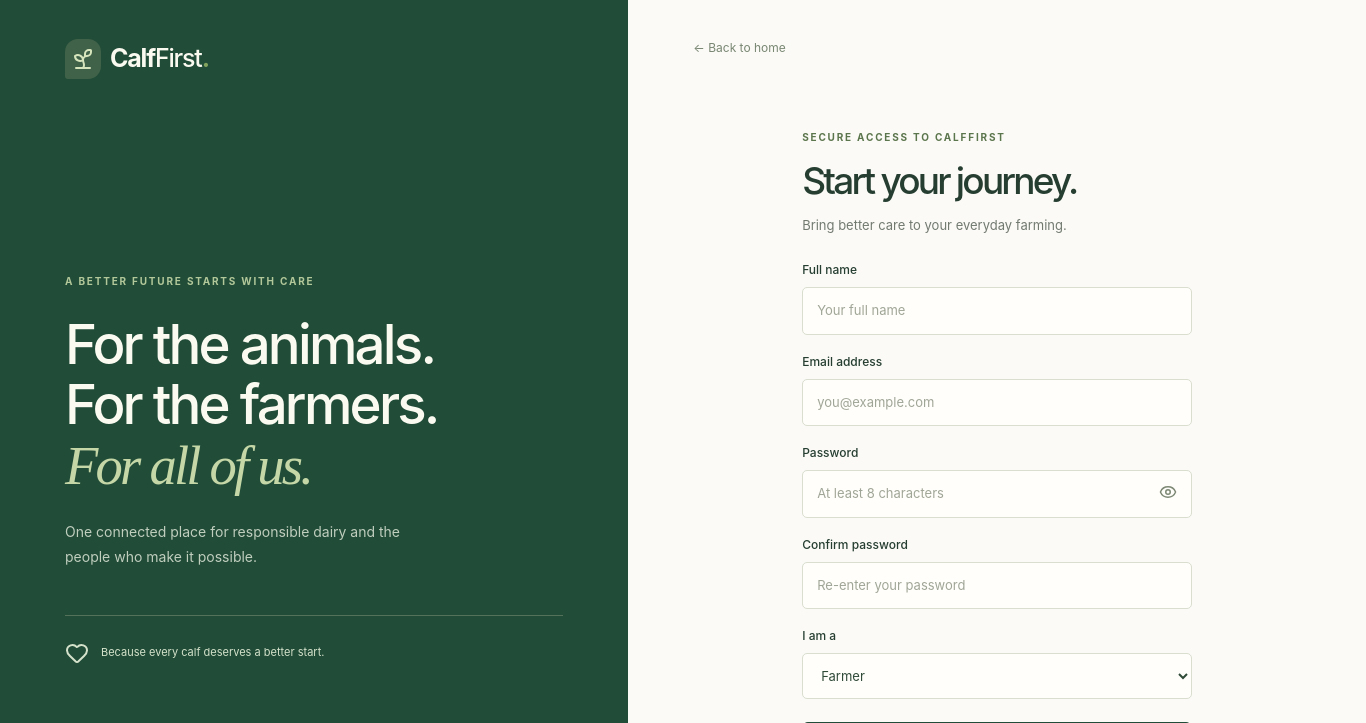
Test case: authentication forms › submits only an ordinary signup role and supports confirmation/duplicate obfuscation
This screenshot has width=1366, height=723.
Type "  Farm Owner  " into the field labelled "Full name" at (997, 311), box [802, 287, 1192, 335]
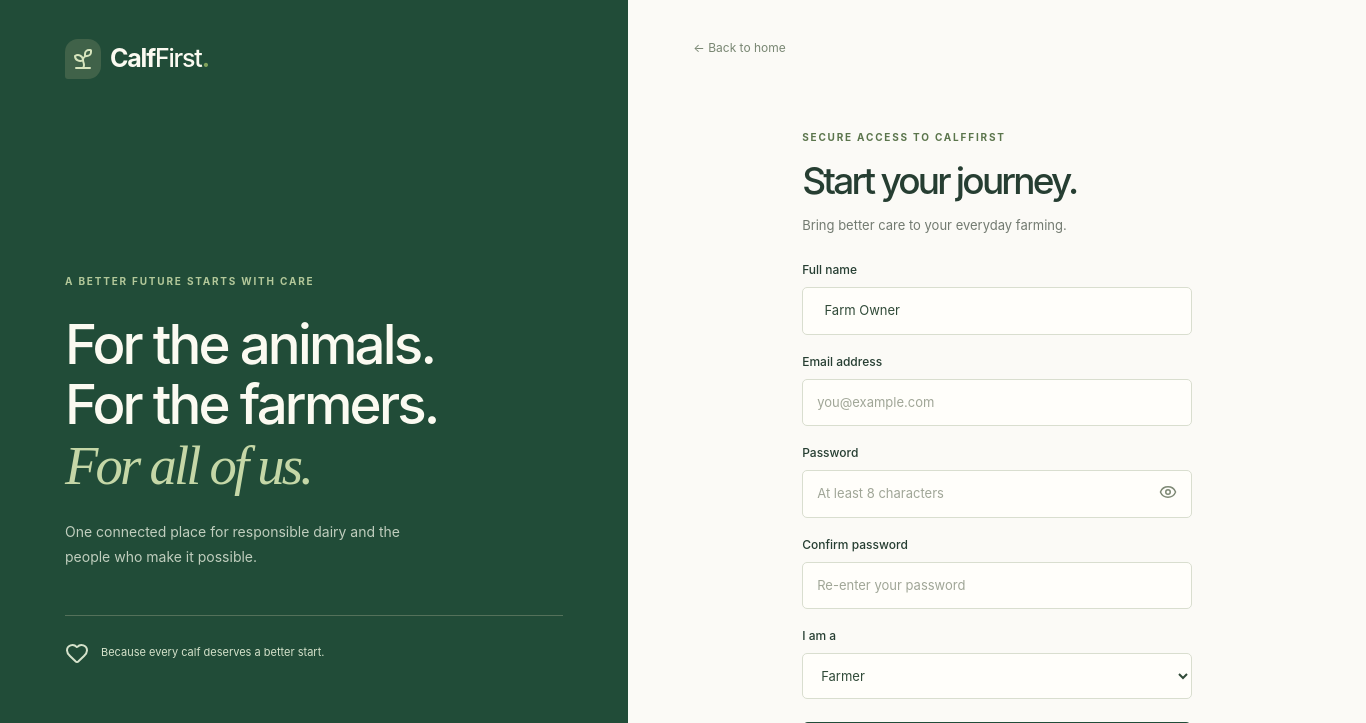
Type "owner@example.test" into the field labelled "Email address" at (997, 402), box [802, 379, 1192, 426]
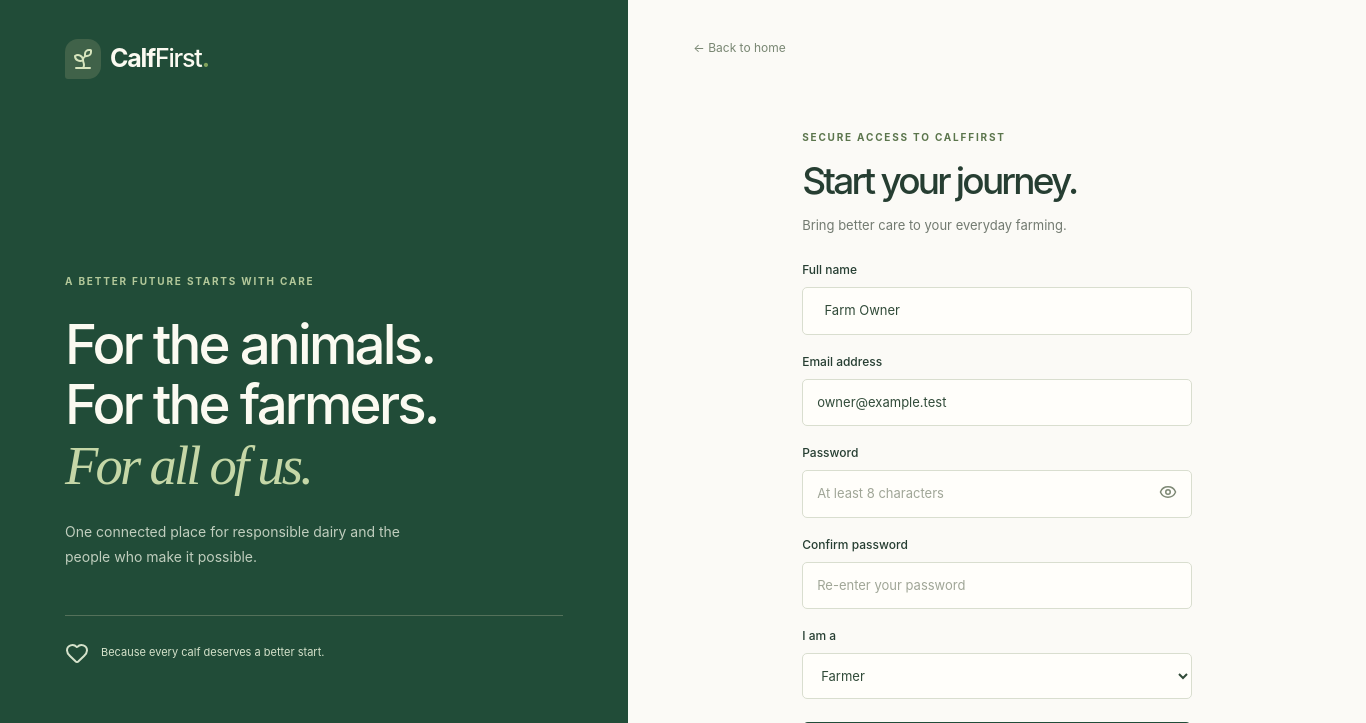
Type "safe-password" into the password field labelled "Password" at (997, 494), box [802, 470, 1192, 518]
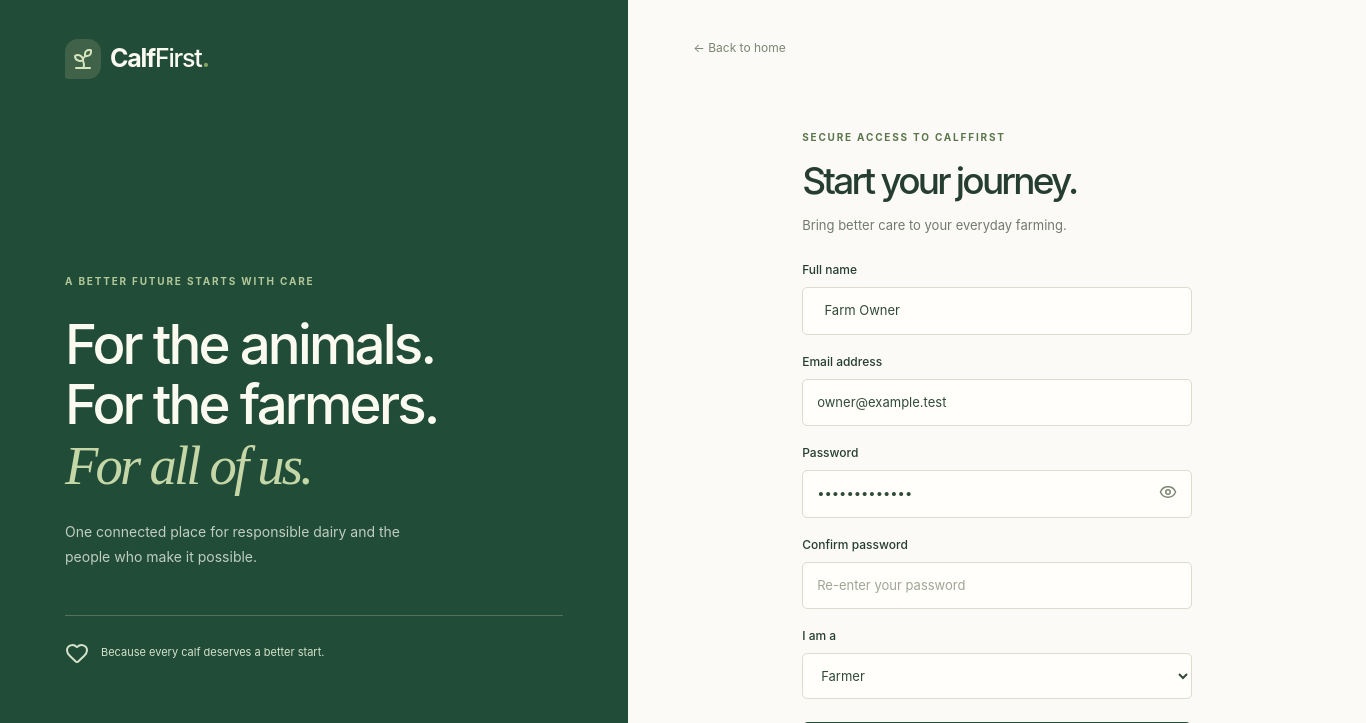
Type "safe-password" into the password field labelled "Confirm password" at (997, 585), box [802, 562, 1192, 609]
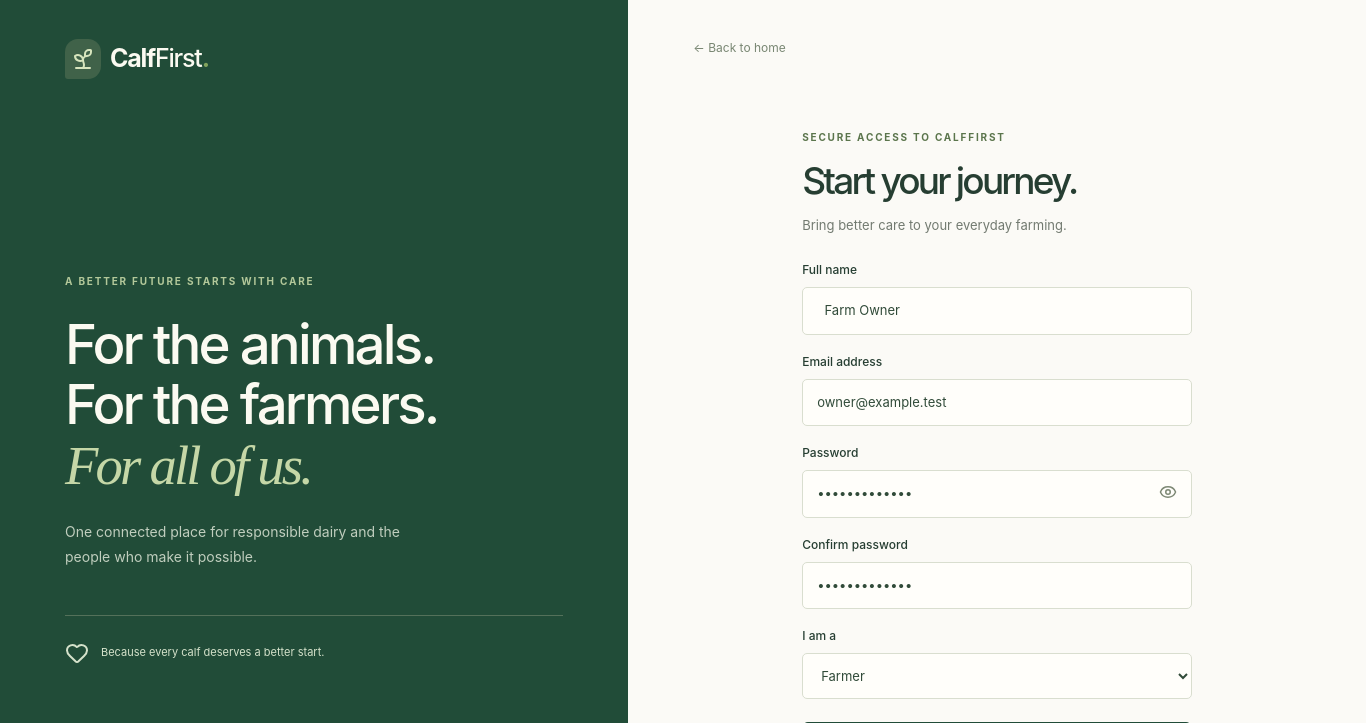
Select "Veterinarian" in the dropdown labelled "I am a" at (997, 676), box [802, 653, 1192, 699]
(page scrolled)
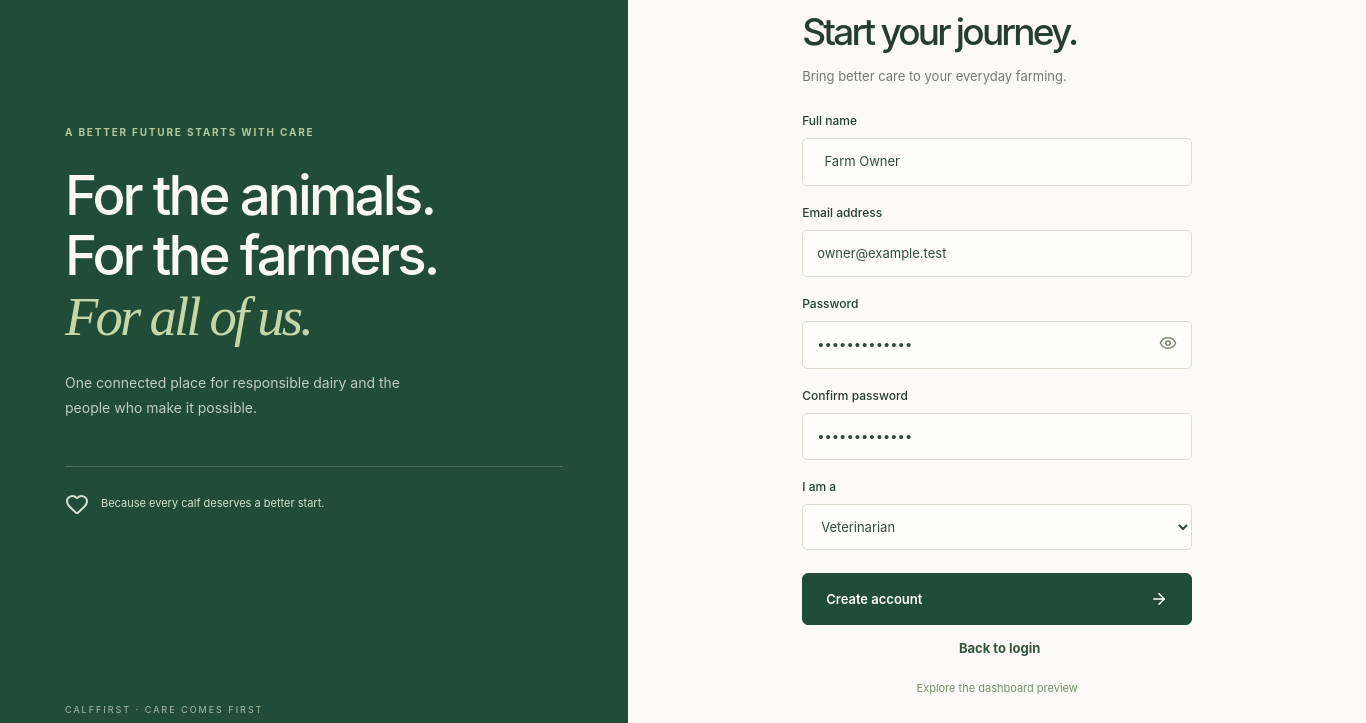
Click the button "Create account" at (874, 599), box [802, 573, 1192, 625]
(page scrolled)
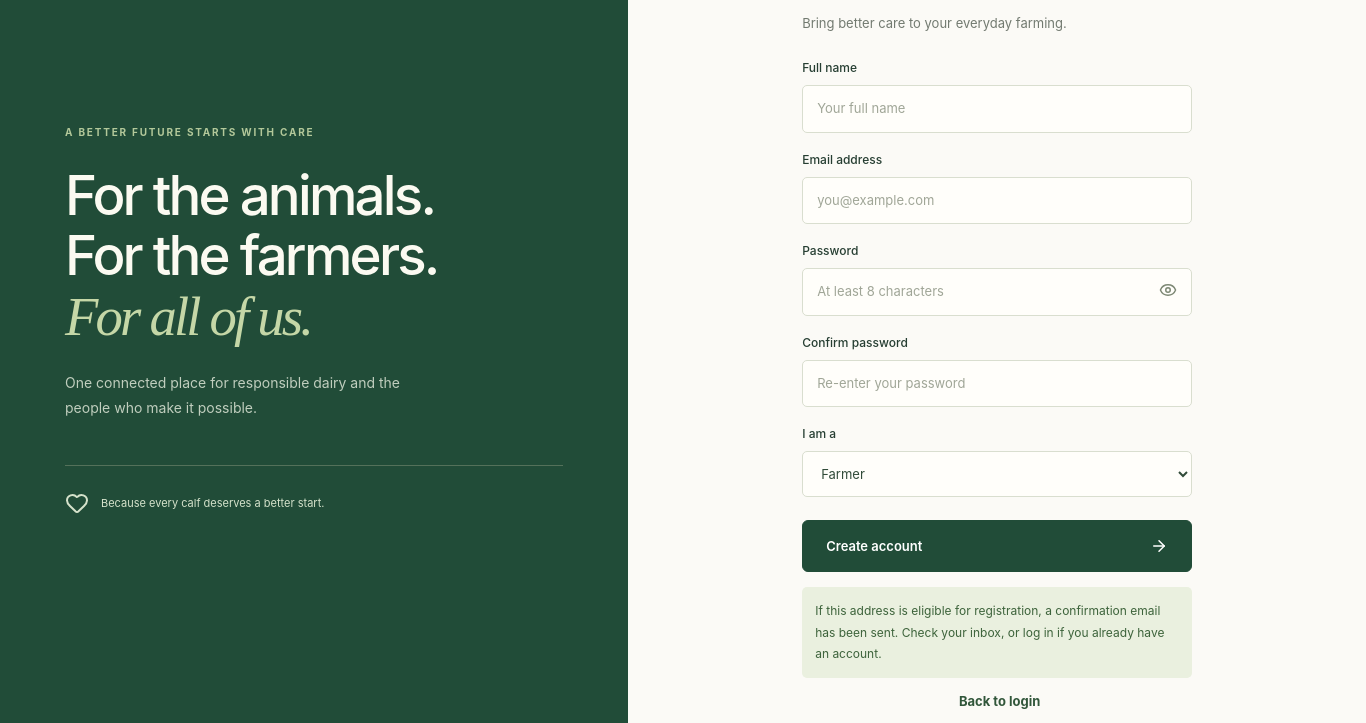
Expected: the text "If this address is eligible" is shown, [815, 603, 1164, 661]
Expected: the password field labelled "Password" is empty, [802, 268, 1192, 316]
